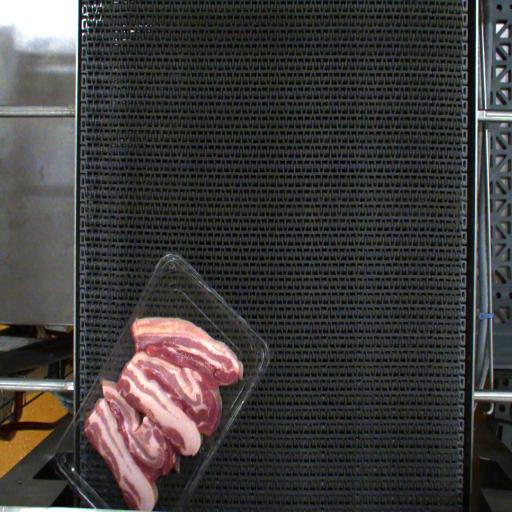packaging-error: (117, 307, 149, 332)
